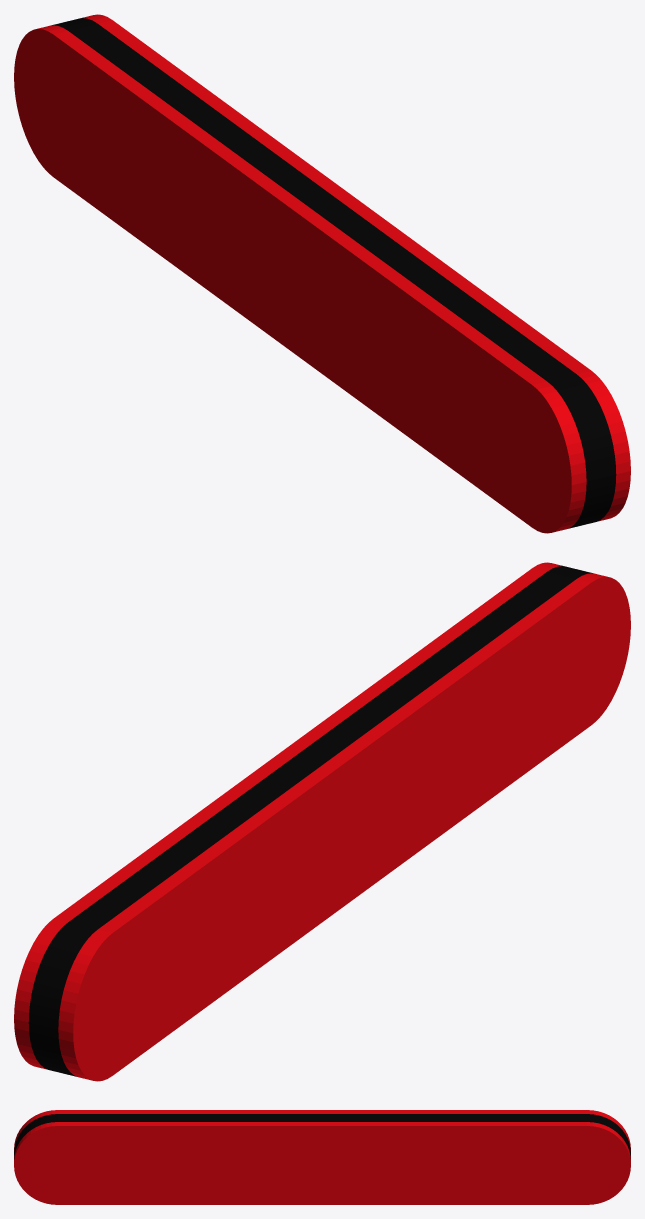
The model's file is konv_big_moy.fbx.
3 renders of one model, top to bottom at view 1: azimuth 30°, elevation 25°; view 2: azimuth 150°, elevation 25°; view 3: azimuth 270°, elevation 25°, orthographic. The views are drawn at different scales.
Visible parts, largest first — view 1: Plane.001; view 2: Plane.001; view 3: Plane.001.
Part boxes in pixels (x1=…): Plane.001: x1=14, y1=14, x2=630, y2=533; Plane.001: x1=14, y1=562, x2=630, y2=1081; Plane.001: x1=14, y1=1110, x2=630, y2=1204.
Bounding box in the file's own units: 34.71 × 80 × 567.
